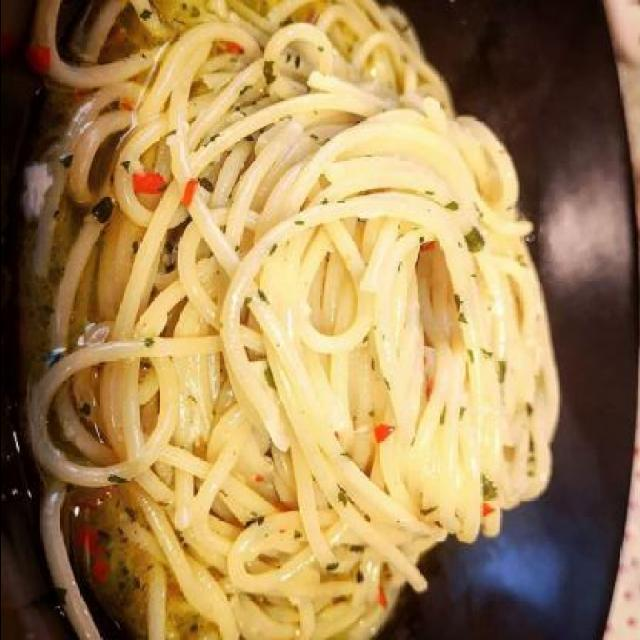Oil pasta: (23, 22, 546, 640)
